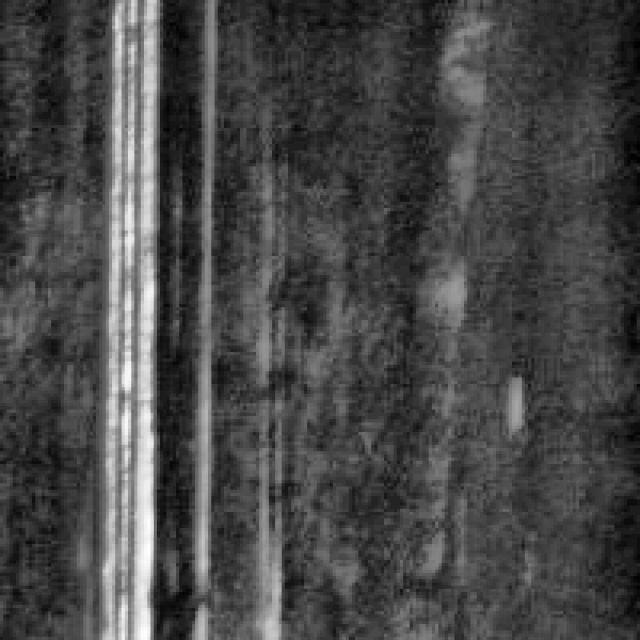Inclusion: (80, 0, 166, 637)
